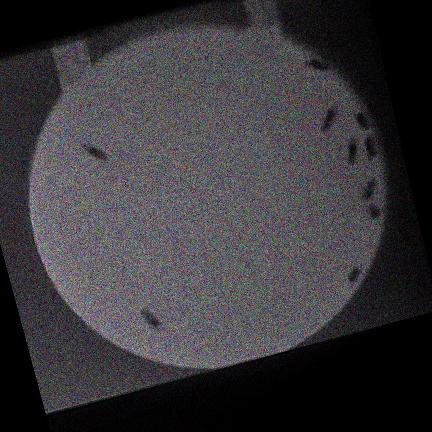fly: (142, 309, 162, 331), (83, 144, 107, 162), (322, 107, 337, 133), (361, 178, 377, 200), (364, 136, 377, 161), (305, 58, 329, 71), (347, 138, 358, 165), (356, 111, 371, 130), (368, 203, 381, 220), (348, 267, 361, 283)
